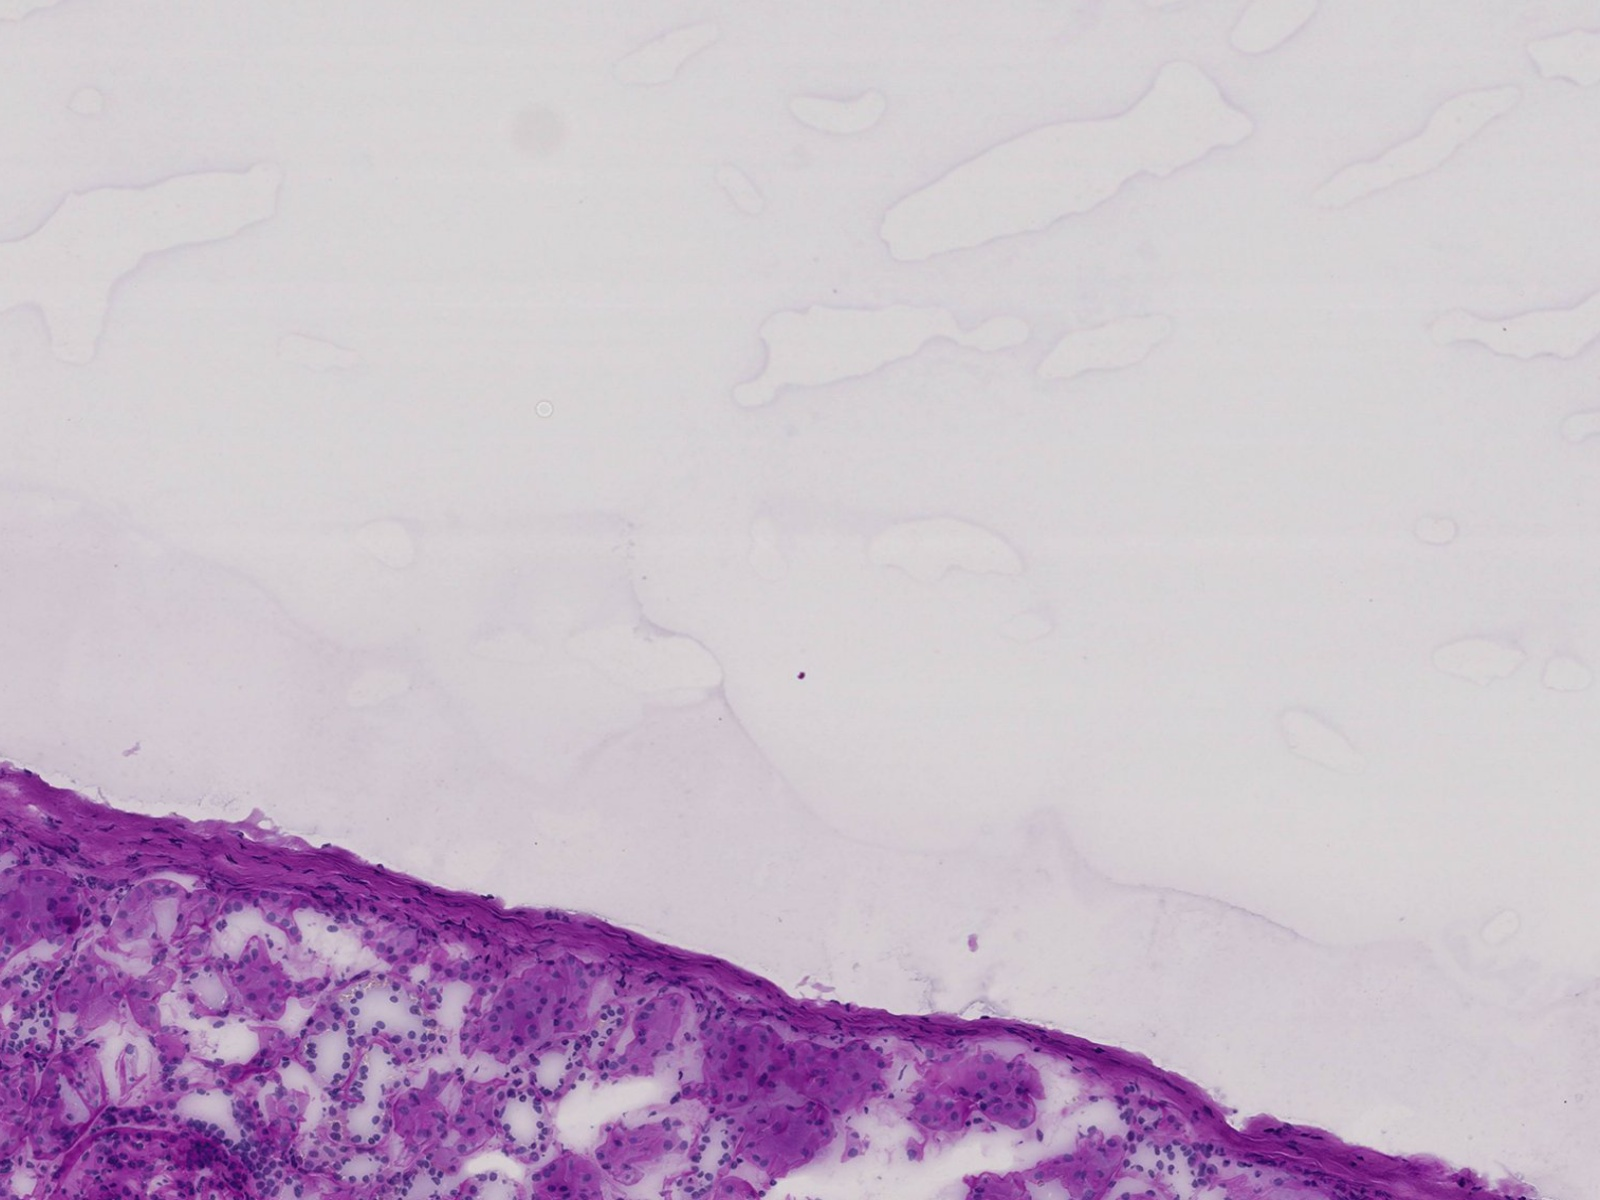Glomeruli: (26, 1108, 271, 1194)
